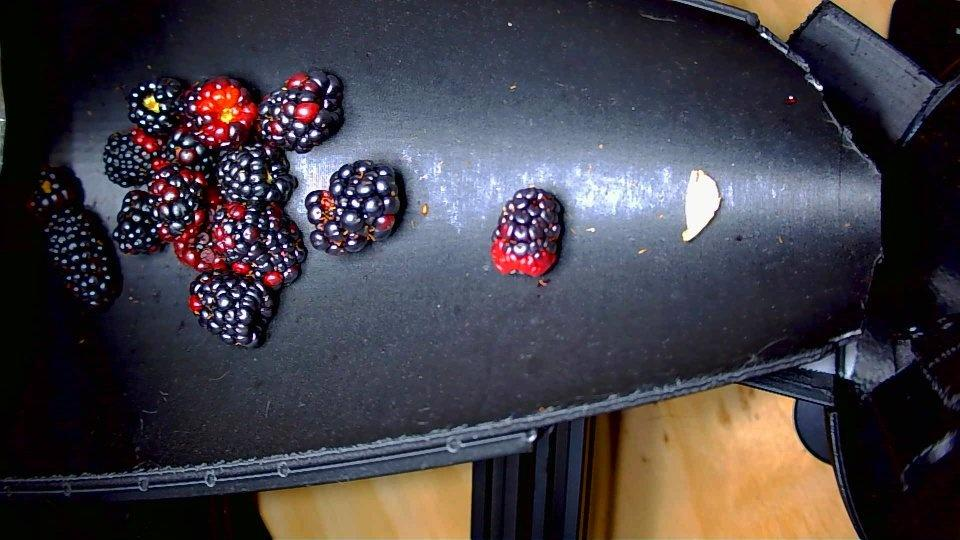berry: (305, 160, 402, 253), (213, 203, 306, 289), (44, 207, 121, 309), (257, 71, 343, 153), (188, 271, 274, 347), (491, 187, 562, 276), (181, 76, 257, 150), (215, 143, 297, 207), (173, 187, 227, 271), (149, 165, 204, 235), (103, 128, 163, 186), (127, 77, 182, 134), (112, 190, 161, 253), (27, 167, 82, 218), (164, 124, 216, 174)
